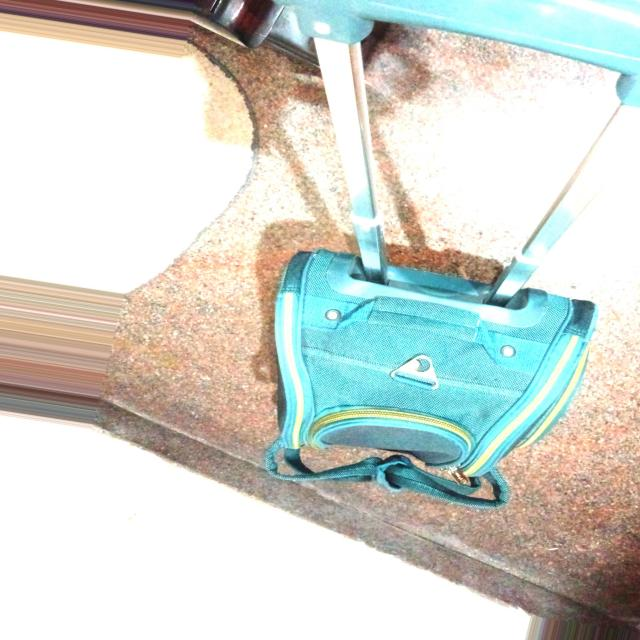Bag: (256, 1, 640, 510)
Handle: (284, 2, 636, 320)
